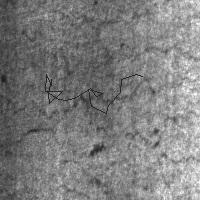crazing: (22, 29, 188, 135), (57, 138, 186, 197), (45, 74, 142, 113), (1, 89, 62, 151)
